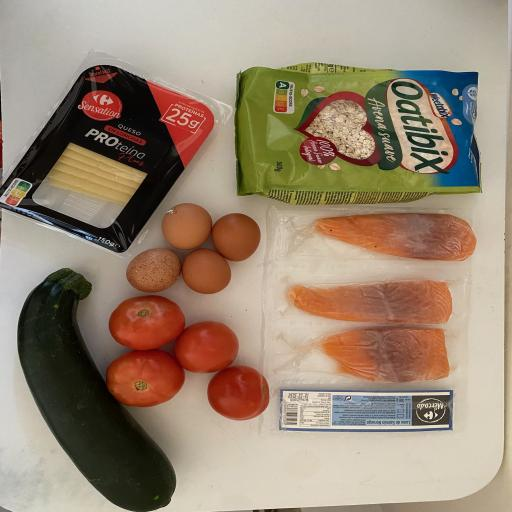cheese: (1, 62, 218, 256)
courgette: (14, 266, 195, 512)
egg: (121, 244, 184, 296), (176, 246, 235, 298), (156, 200, 214, 252), (208, 211, 264, 263)
oat: (229, 60, 488, 202)
salmon: (306, 209, 482, 265), (284, 275, 456, 327), (312, 326, 454, 384)
tomato: (101, 347, 187, 411), (106, 292, 187, 355), (171, 318, 242, 376), (202, 363, 273, 421)
